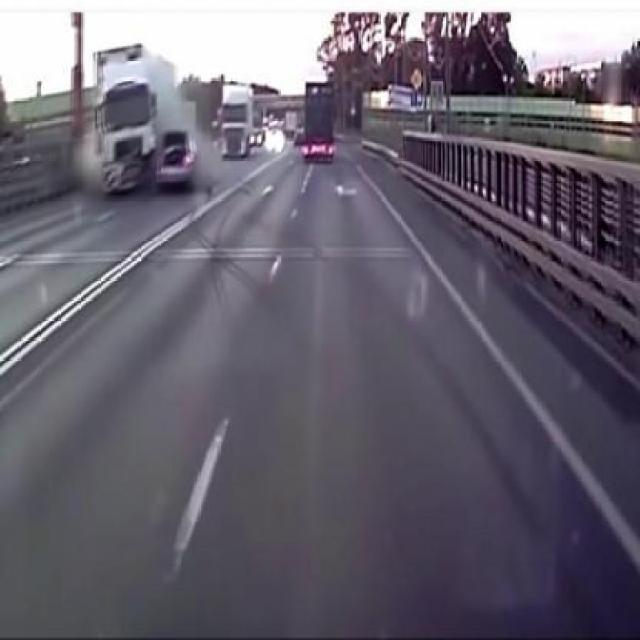accident: (71, 52, 204, 193)
